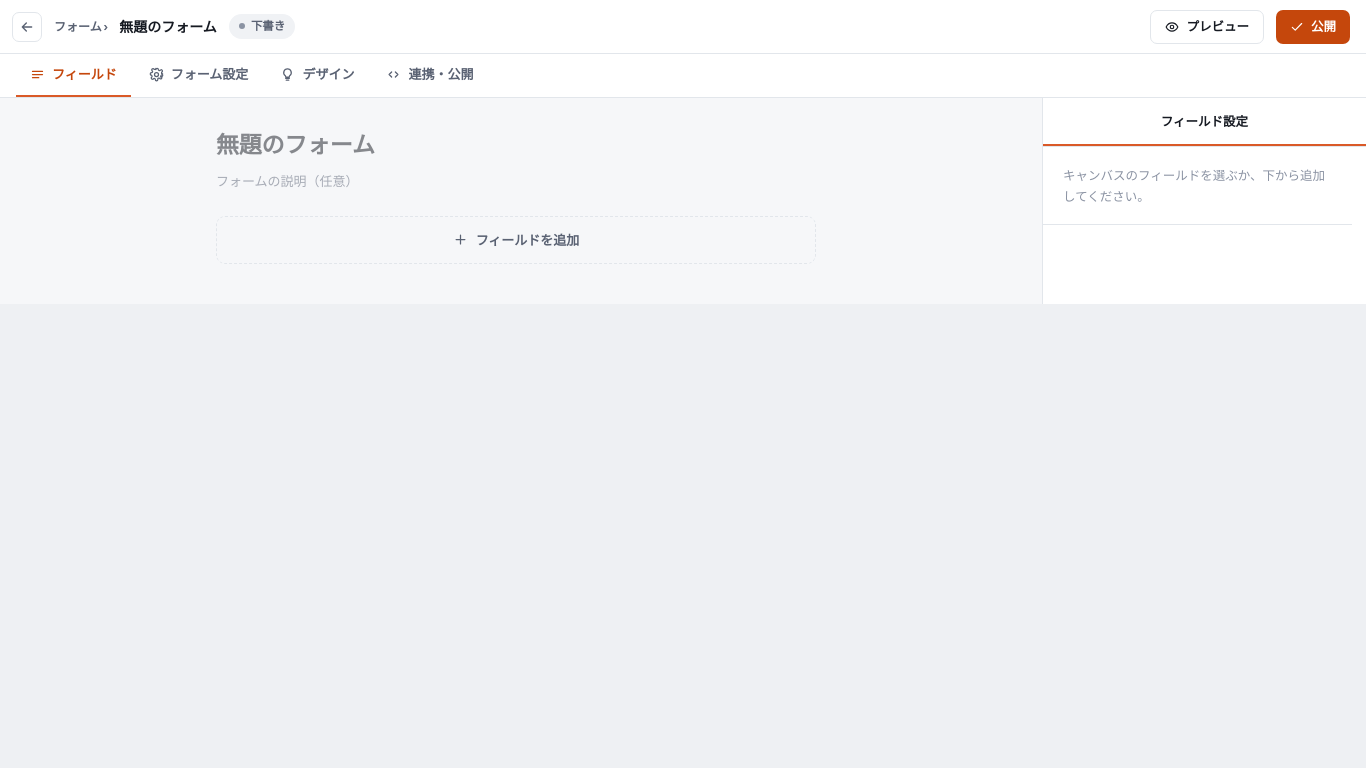
Test: FormBuilder › shows an honest unsaved-changes hint after editing, then a saved timestamp after publishing
Expected: the text "未保存の変更があります" is not shown
Type "Sales" into the field named "フォーム名" at (516, 144), box [216,124,816,165]
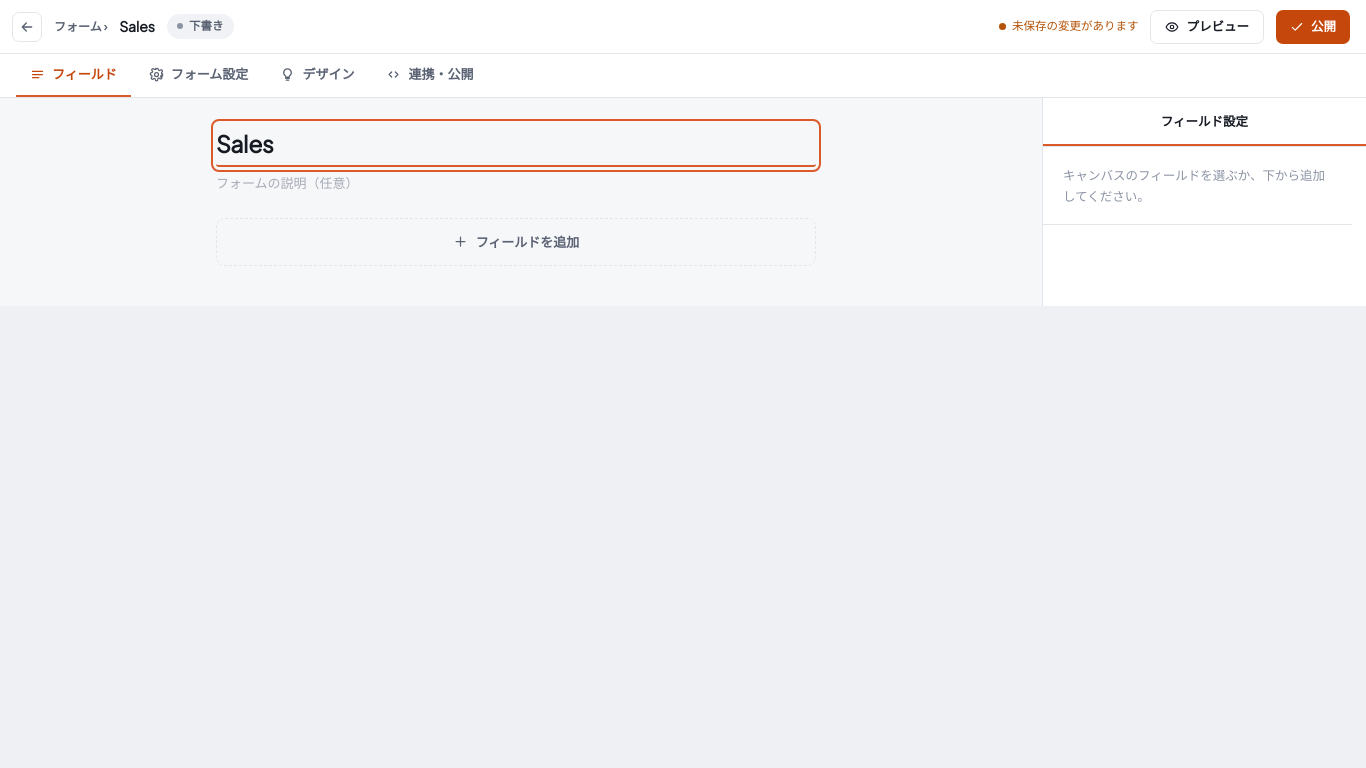
Expected: the text "未保存の変更があります" is shown, [999,17,1138,36]
Click the button "フィールドを追加" at (516, 242), box [216,218,816,266]
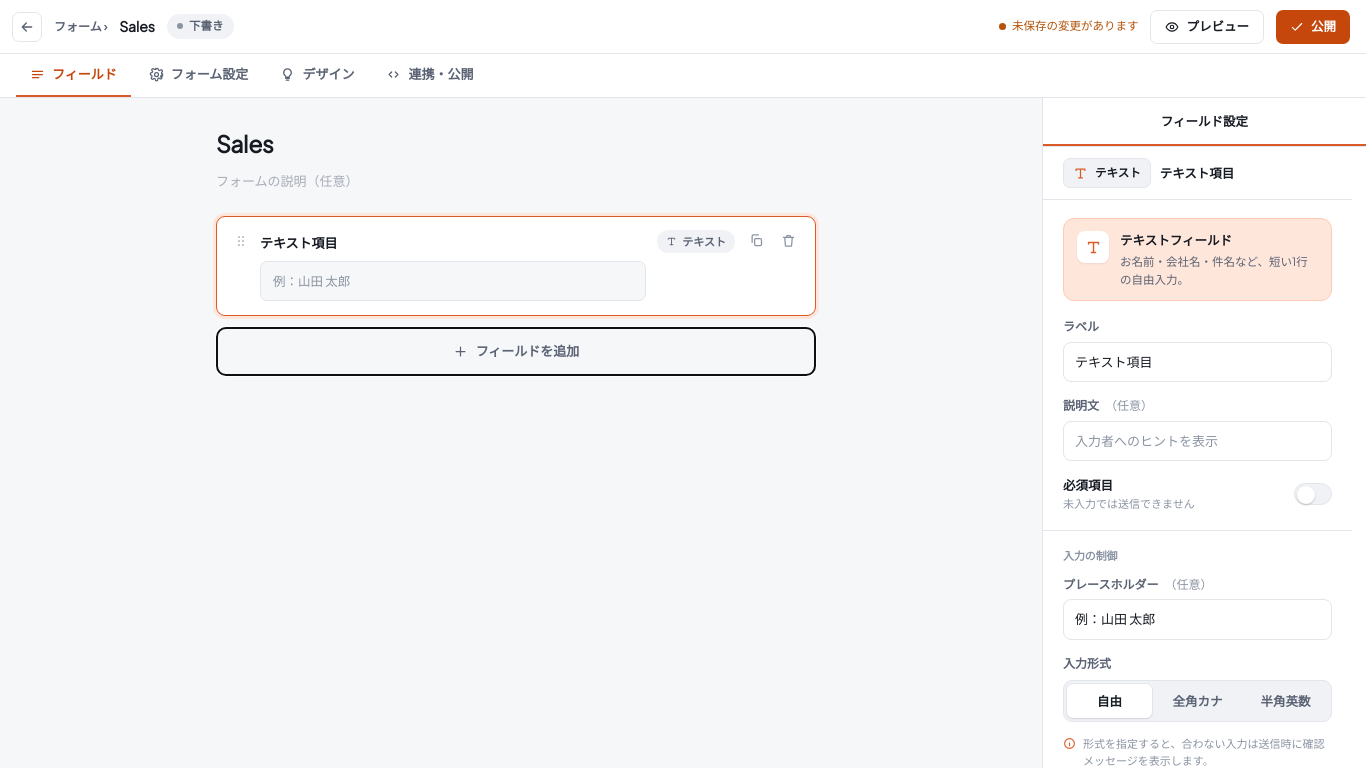
Replace the text in the field named "ラベル" with "お名前" at (1198, 362), box [1063,342,1332,382]
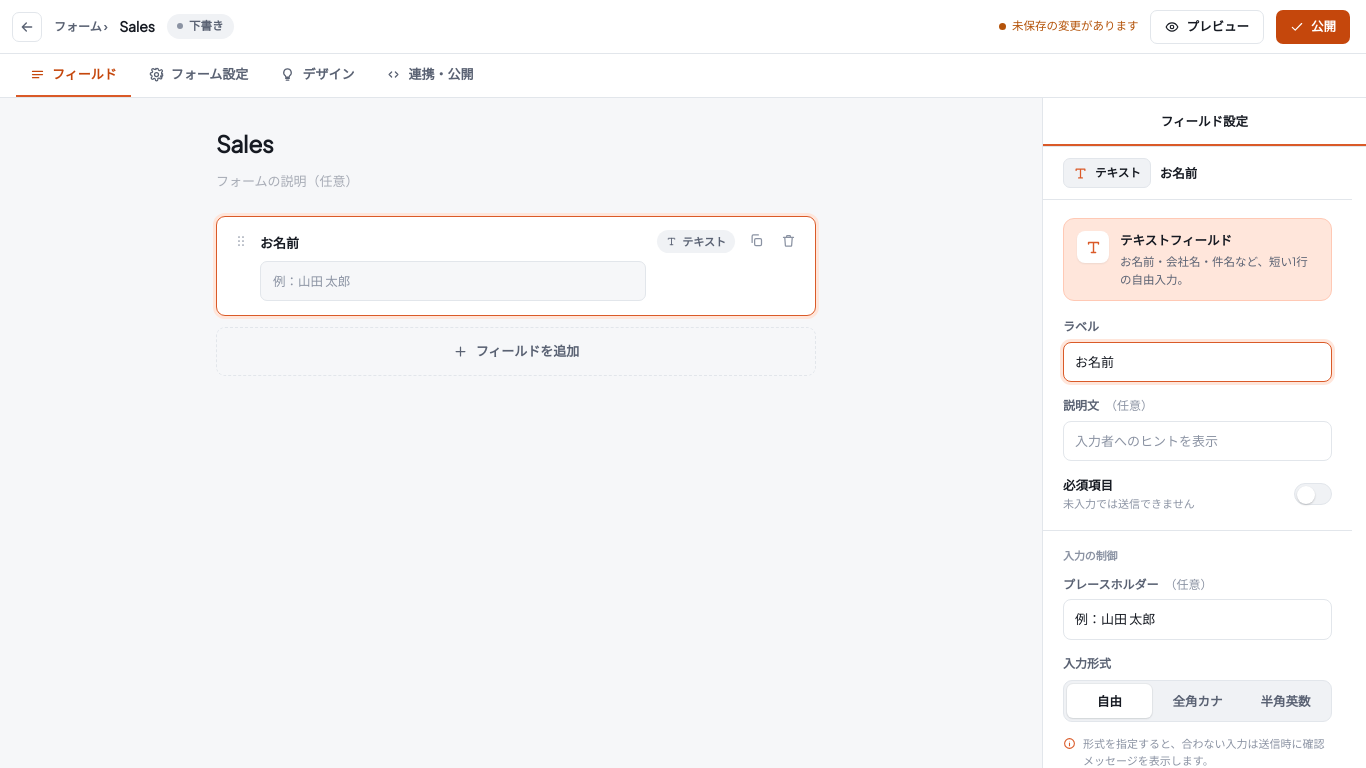
Click the button "公開" at (1313, 26), box [1276,10,1350,44]
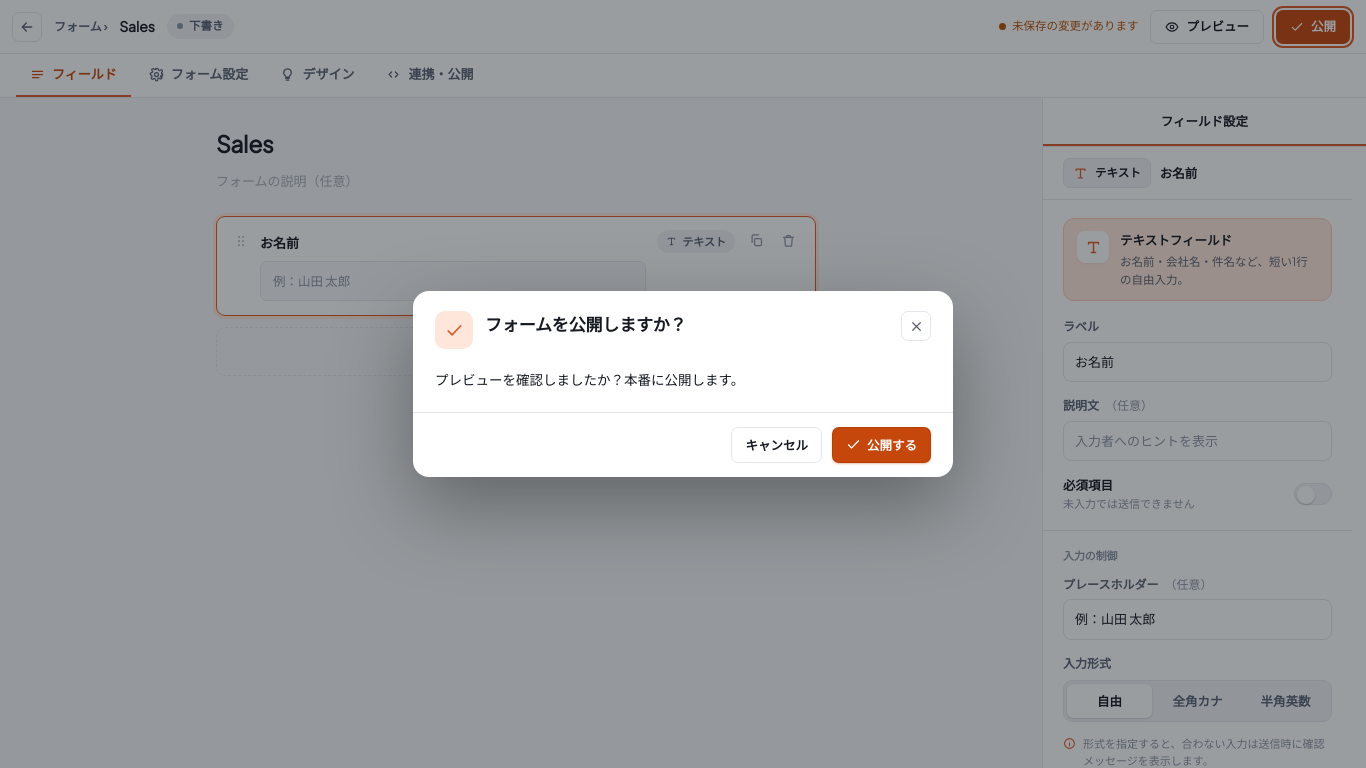
Click the button "公開する" at (882, 445), box [832,427,931,463]
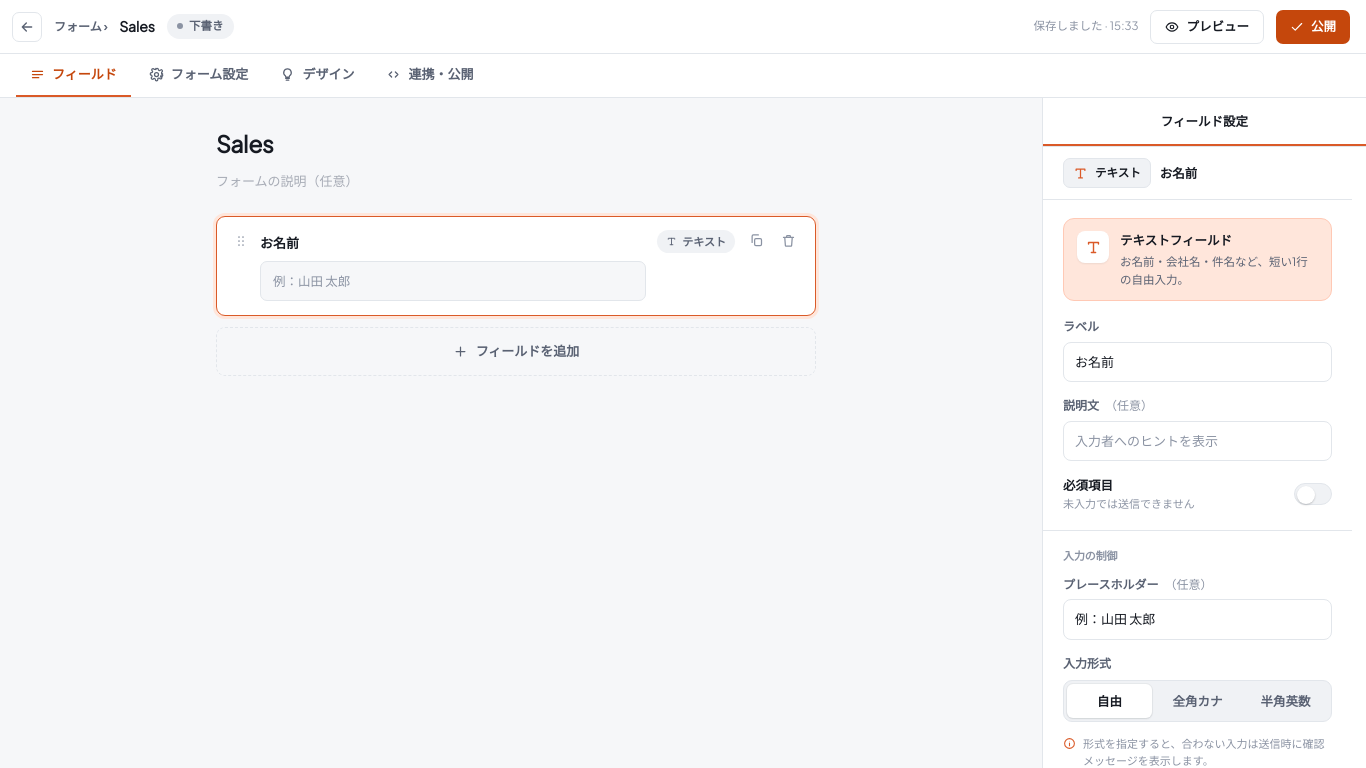
Expected: the text "未保存の変更があります" is gone
Expected: the text "保存しました · 15:33" is shown, [1034,17,1138,36]
